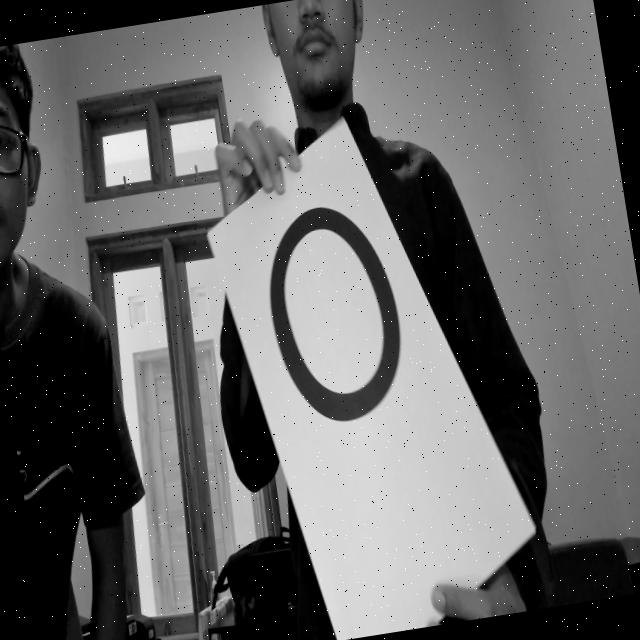o: (230, 151, 430, 464)
